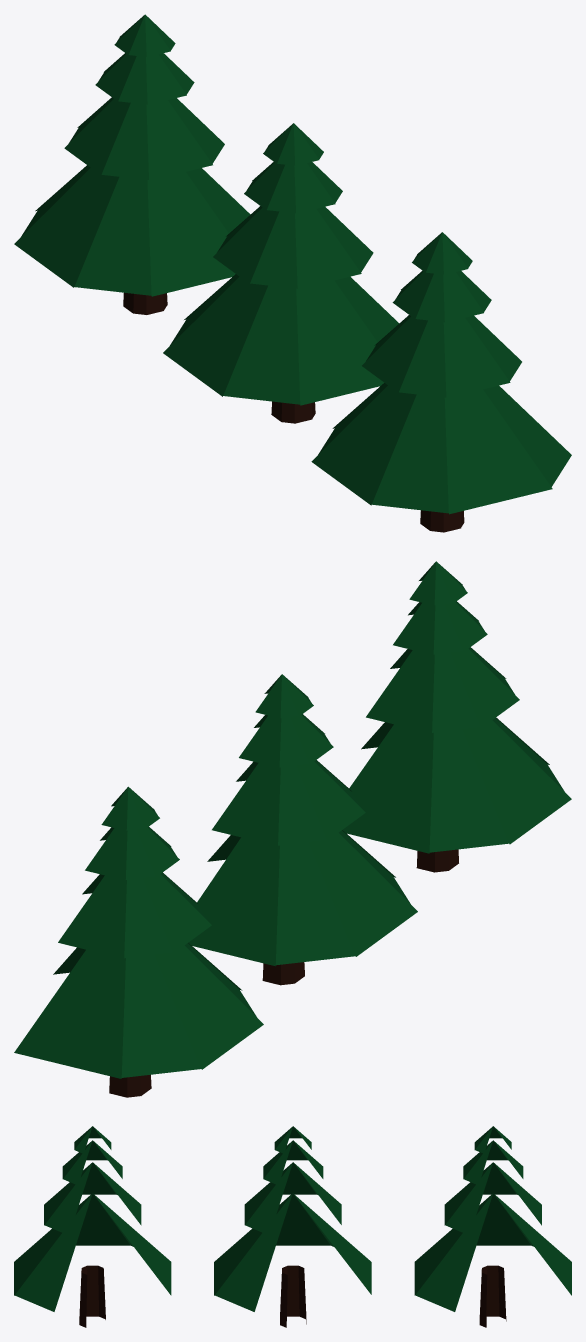
File: Fir-tree.obj
The picture shows the model from 3 angles, top to bottom: view 1: azimuth 30°, elevation 25°; view 2: azimuth 150°, elevation 25°; view 3: azimuth 270°, elevation 25°; orthographic projection. The views are drawn at different scales.
Visible parts, largest first — view 1: Cube.005_Cube.010, Cube.006_Cube.001, Cube.020, Cube.004_Cube.009, Cube.009_Cube.006, Cube.019, Cube.018, Cube.012, Cube.003_Cube.008, Cube.002, Cube.013, Cube.017 (+3 smaller); view 2: Cube.020, Cube.005_Cube.010, Cube.006_Cube.001, Cube.009_Cube.006, Cube.004_Cube.009, Cube.019, Cube.018, Cube.012, Cube.003_Cube.008, Cube.017, Cube.013, Cube.002 (+3 smaller); view 3: Cube.005_Cube.010, Cube.020, Cube.006_Cube.001, Cube.004_Cube.009, Cube.009_Cube.006, Cube.019, Cube.011, Cube.001_Cube.003, Cube.014, Cube.018, Cube.003_Cube.008, Cube.012 (+3 smaller).
Boxes of the visible parts, <box> form: Cube.005_Cube.010: <box>311,383,571,514</box>; Cube.006_Cube.001: <box>163,274,398,405</box>; Cube.020: <box>14,165,250,296</box>; Cube.004_Cube.009: <box>362,315,521,398</box>; Cube.009_Cube.006: <box>213,206,373,289</box>; Cube.019: <box>64,97,224,180</box>; Cube.018: <box>95,53,194,104</box>; Cube.012: <box>244,162,342,213</box>; Cube.003_Cube.008: <box>392,270,491,322</box>; Cube.002: <box>412,232,472,274</box>; Cube.013: <box>263,123,323,165</box>; Cube.017: <box>114,14,175,56</box>; Cube.020: <box>14,942,263,1078</box>; Cube.005_Cube.010: <box>343,717,571,853</box>; Cube.006_Cube.001: <box>188,830,417,966</box>; Cube.009_Cube.006: <box>212,760,365,846</box>; Cube.004_Cube.009: <box>366,647,519,733</box>; Cube.019: <box>58,872,211,958</box>; Cube.018: <box>85,827,179,880</box>; Cube.012: <box>239,714,333,767</box>; Cube.003_Cube.008: <box>393,601,487,654</box>; Cube.017: <box>101,786,159,830</box>; Cube.013: <box>255,674,313,718</box>; Cube.002: <box>409,561,467,605</box>; Cube.005_Cube.010: <box>14,1193,171,1311</box>; Cube.020: <box>414,1193,571,1311</box>; Cube.006_Cube.001: <box>214,1193,371,1311</box>; Cube.004_Cube.009: <box>44,1162,141,1235</box>; Cube.009_Cube.006: <box>244,1162,341,1235</box>; Cube.019: <box>444,1162,541,1235</box>; Cube.011: <box>479,1265,506,1327</box>; Cube.001_Cube.003: <box>79,1265,105,1327</box>; Cube.014: <box>280,1265,306,1327</box>; Cube.018: <box>463,1140,523,1185</box>; Cube.003_Cube.008: <box>62,1140,122,1185</box>; Cube.012: <box>263,1140,323,1185</box>.
Size of the model in its own units: 2.36 by 3.25 by 8.36.
